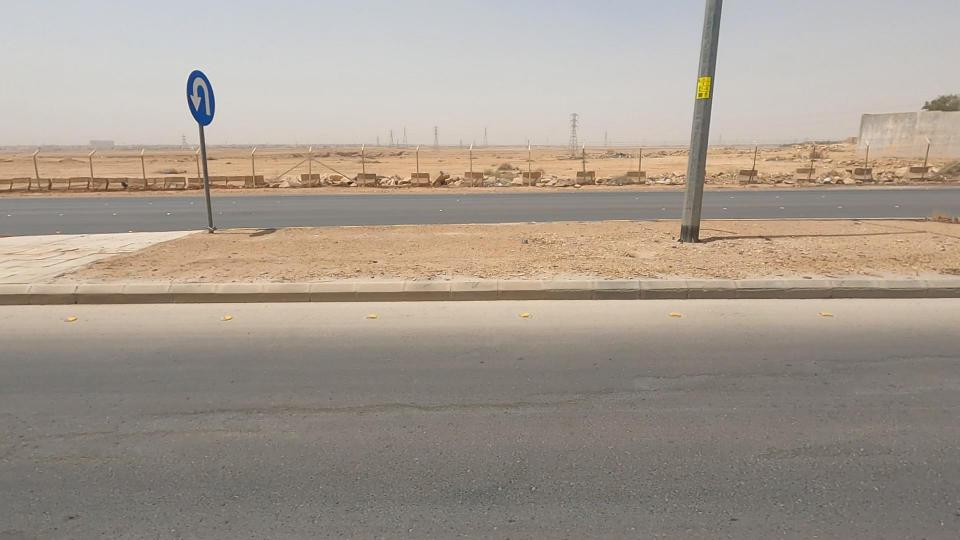CLUTTER_SIDEWALK: (140, 187, 687, 320), (637, 175, 960, 316)
